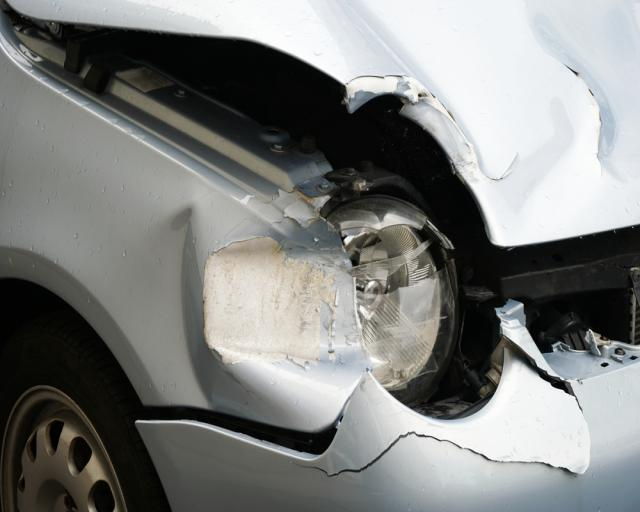crack: (288, 333, 593, 478)
dent: (127, 204, 365, 406), (469, 3, 619, 248)
lamp broken: (326, 189, 463, 401)
